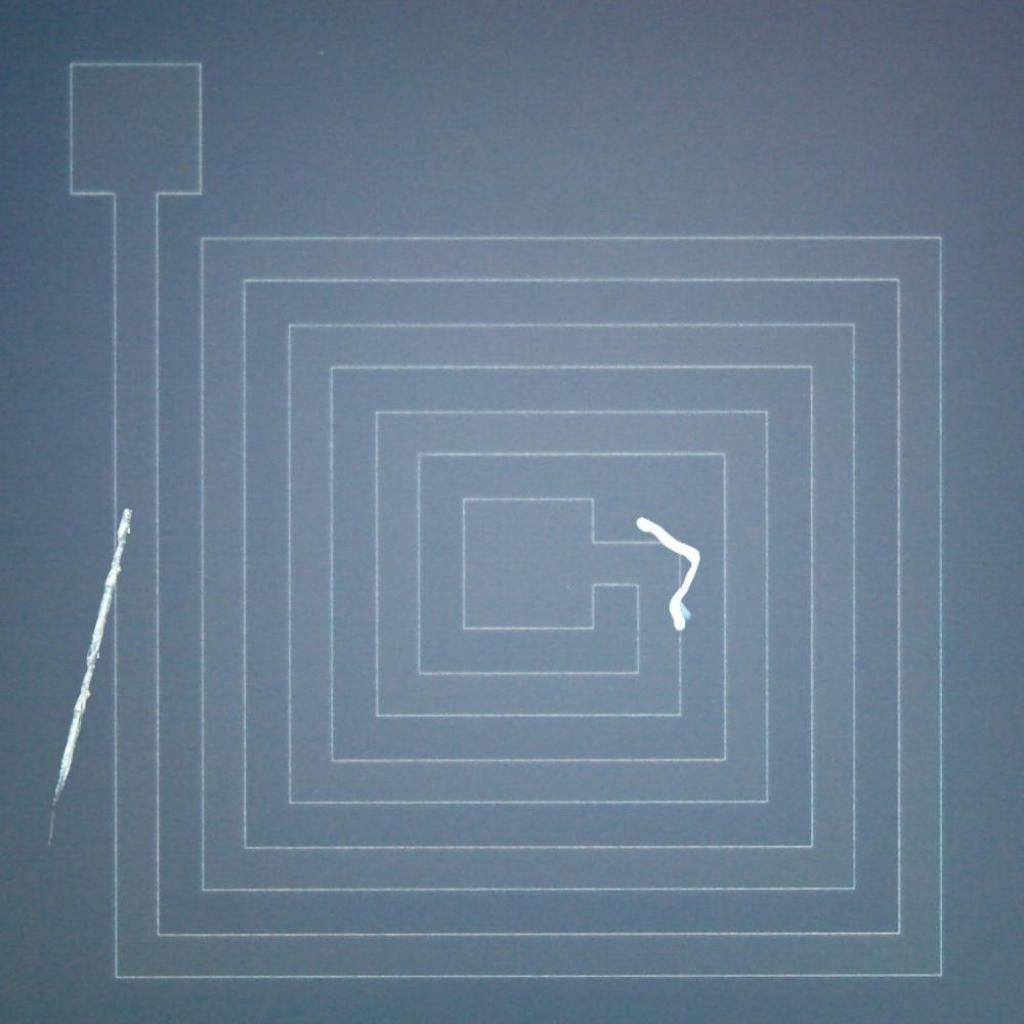line: (626, 508, 716, 640)
scratch: (47, 499, 146, 815)
